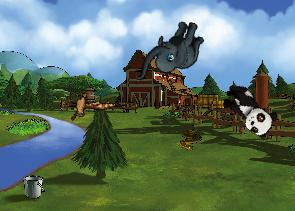eagle: (59, 77, 118, 133)
elephant: (135, 11, 207, 93)
panda: (215, 79, 281, 141)
